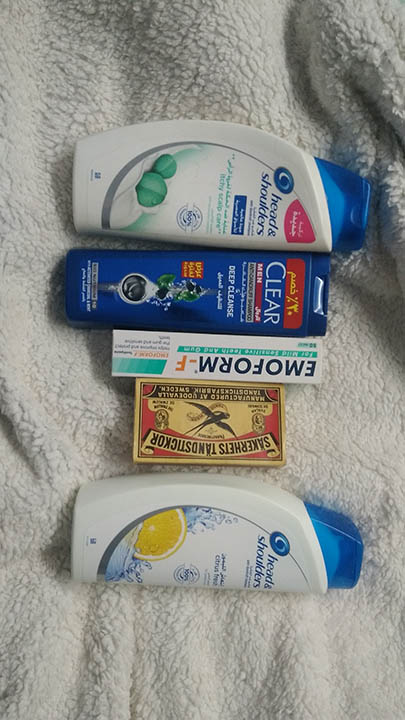Shampoo-Clear 4.7$: (56, 255, 344, 333)
Toothpaste-F 1.5$: (104, 336, 331, 379)
match-sticks .90$: (126, 377, 293, 472)
shampoo-Lemon 3.5$: (62, 473, 373, 609)
shampoo-green 4.5$: (55, 93, 376, 257)
